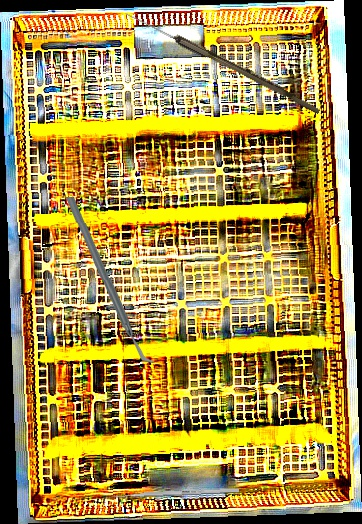Chopper: (65, 195, 156, 365)
Pusher: (105, 487, 240, 500)
Surgical Spoon: (123, 10, 323, 114)
